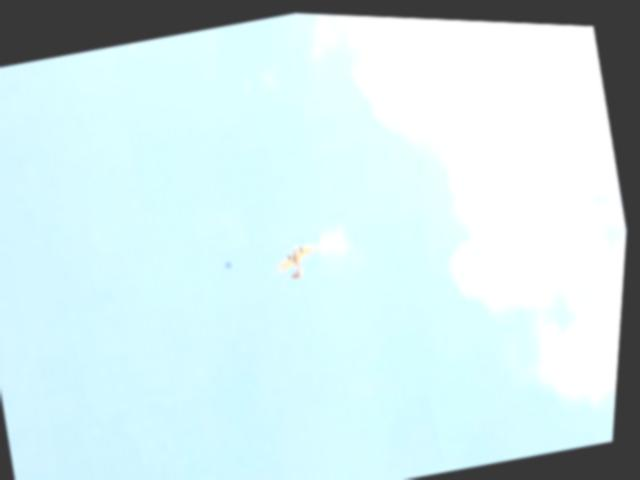uav: (274, 234, 326, 283)
